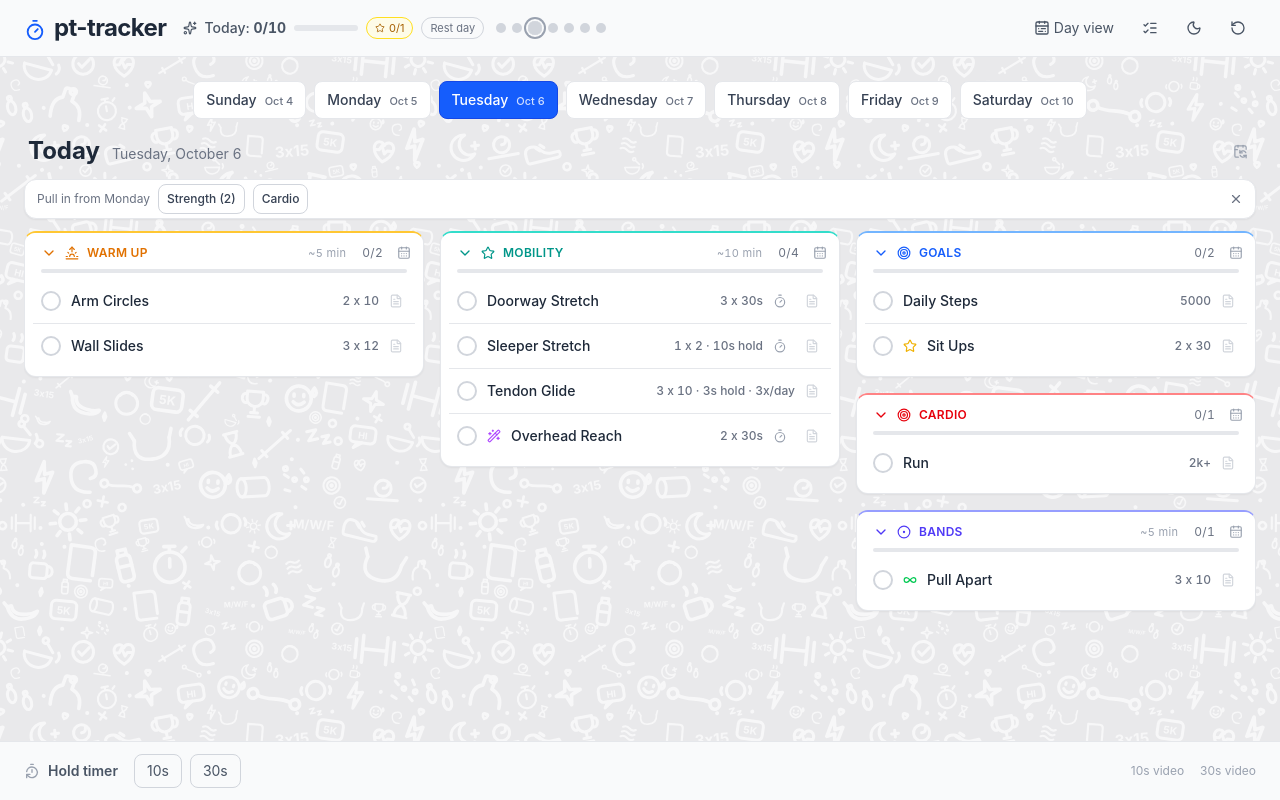
the hold timer from an exercise row › does not check anything off when stopped early
Click the button named "Start hold timer: 3 x 30s": coordinates (780, 301) [765, 286, 795, 316]
Wait 5000 ms
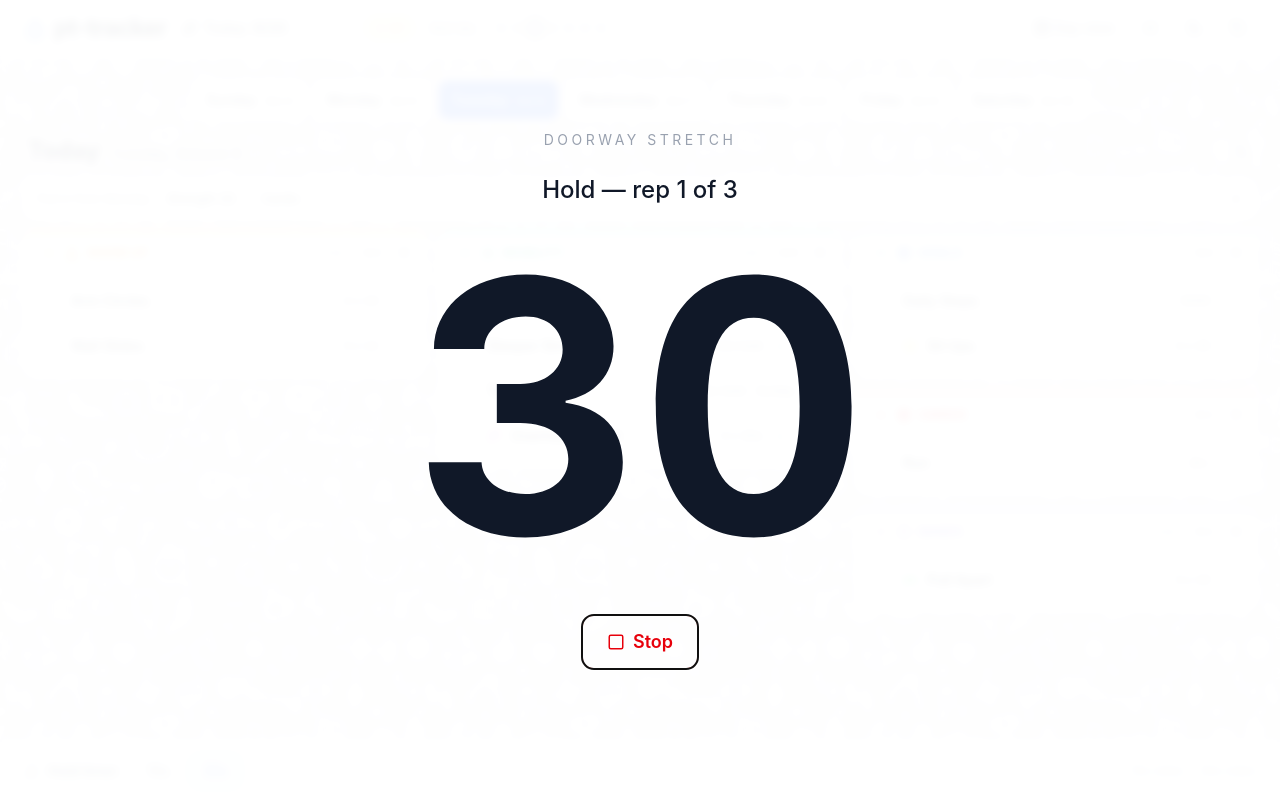
Click the button "Stop": coordinates (640, 642) [581, 614, 699, 670]
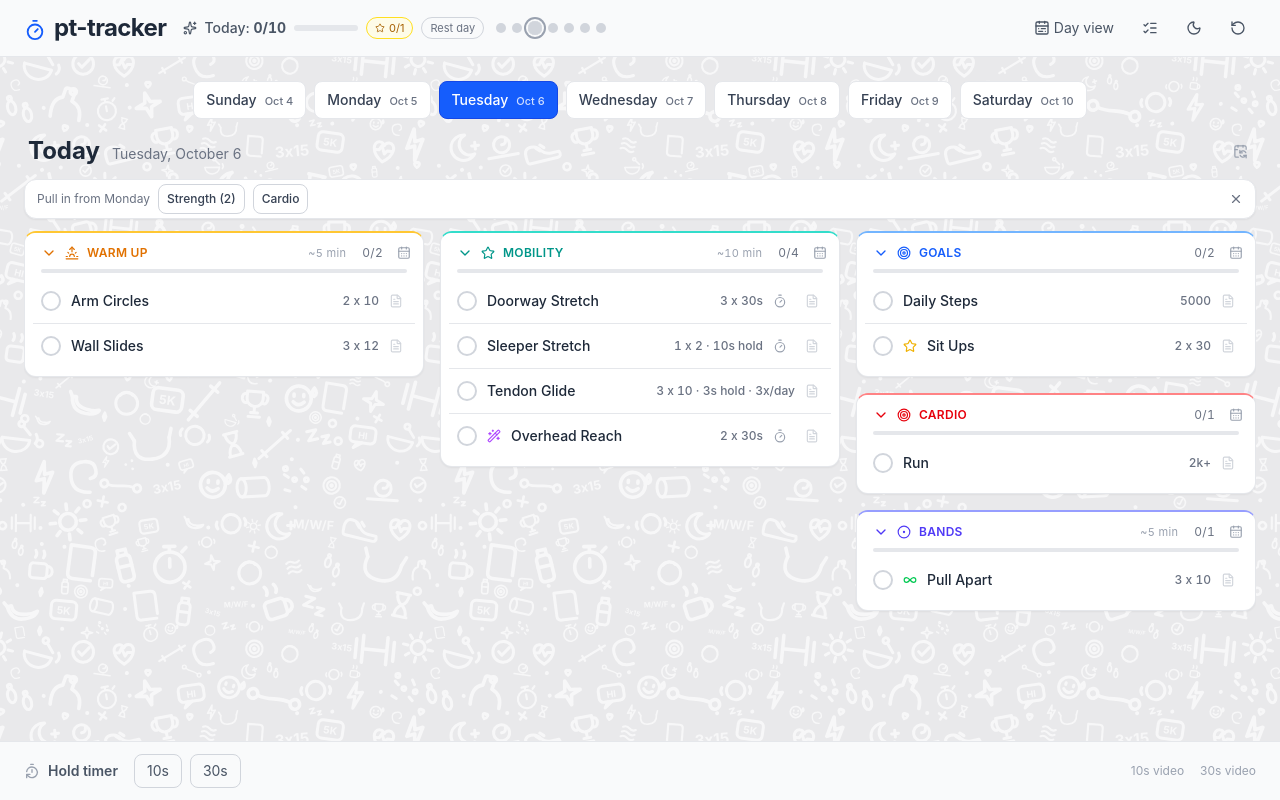
Click the button "10s": coordinates (158, 771) [134, 754, 182, 788]
Wait 5000 ms
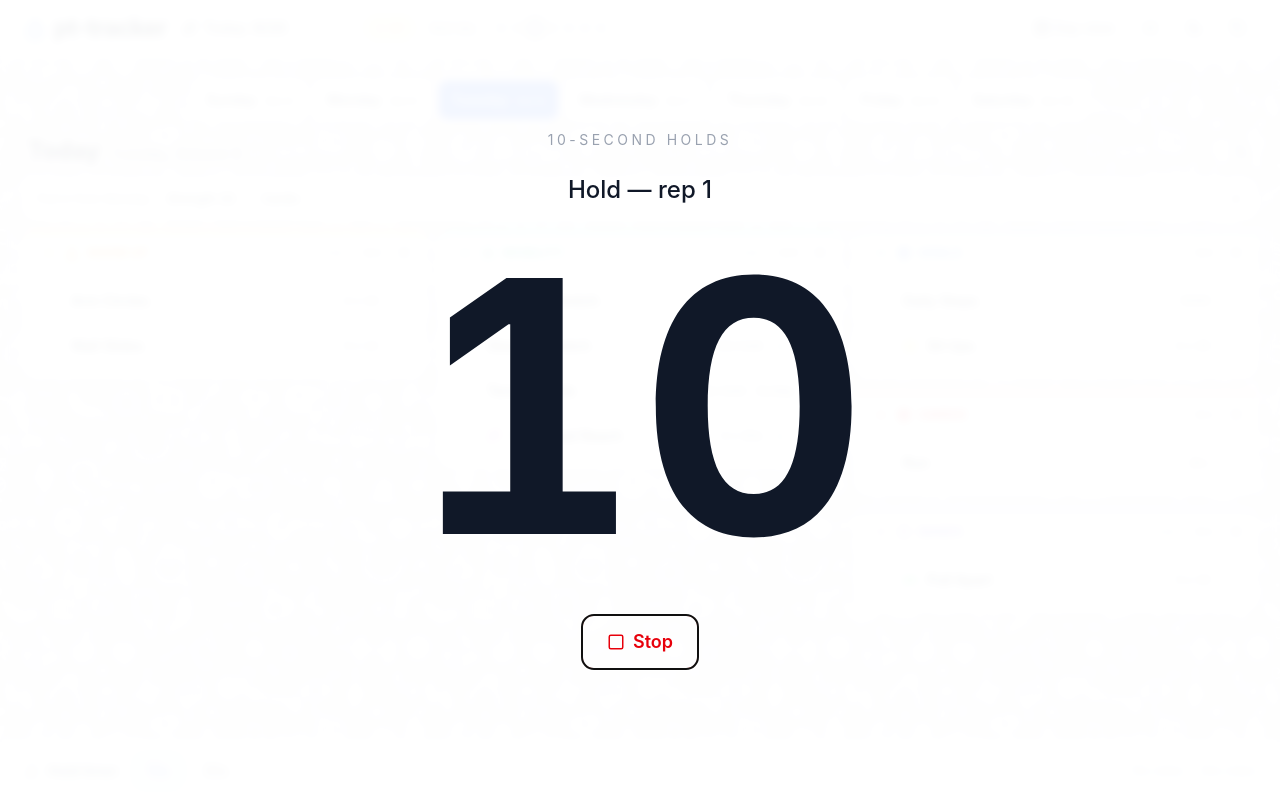
Expected: the text "Hold timer" does not show "of"
Expected: the dialog named "Hold timer" shows "10-second holds", [548, 131, 732, 148]
